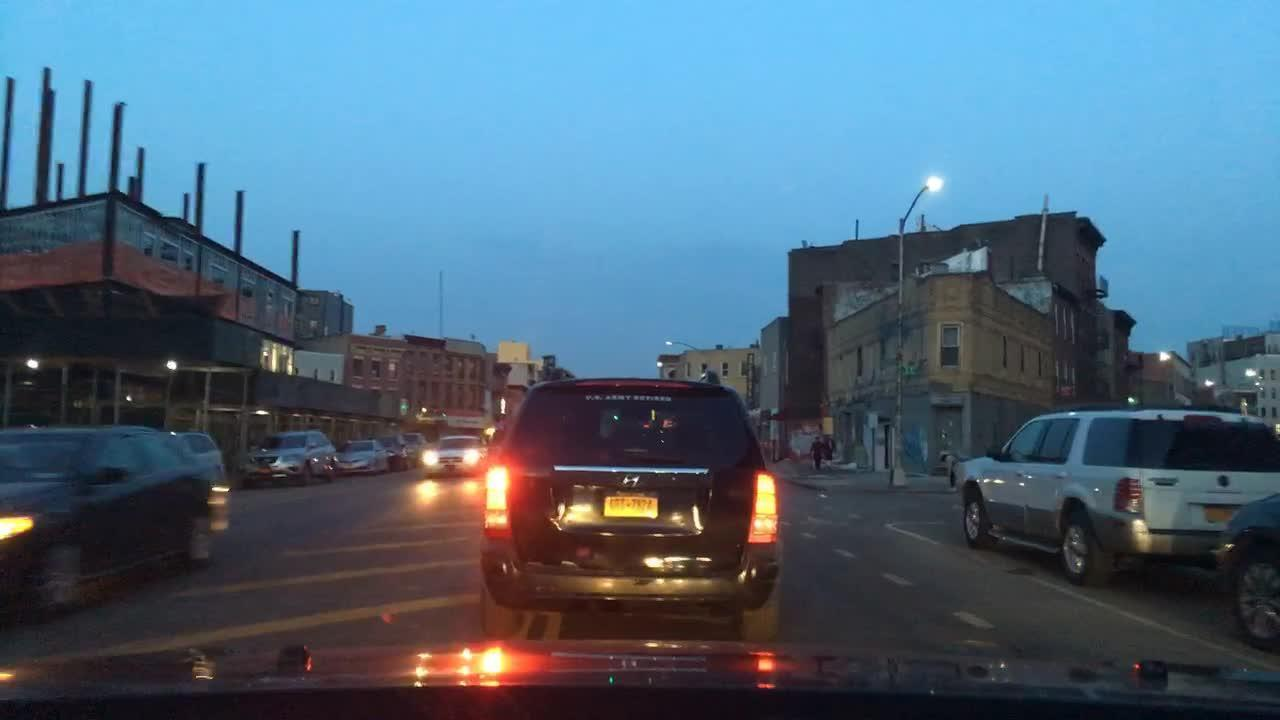Hyundai: (603, 467, 665, 492)
